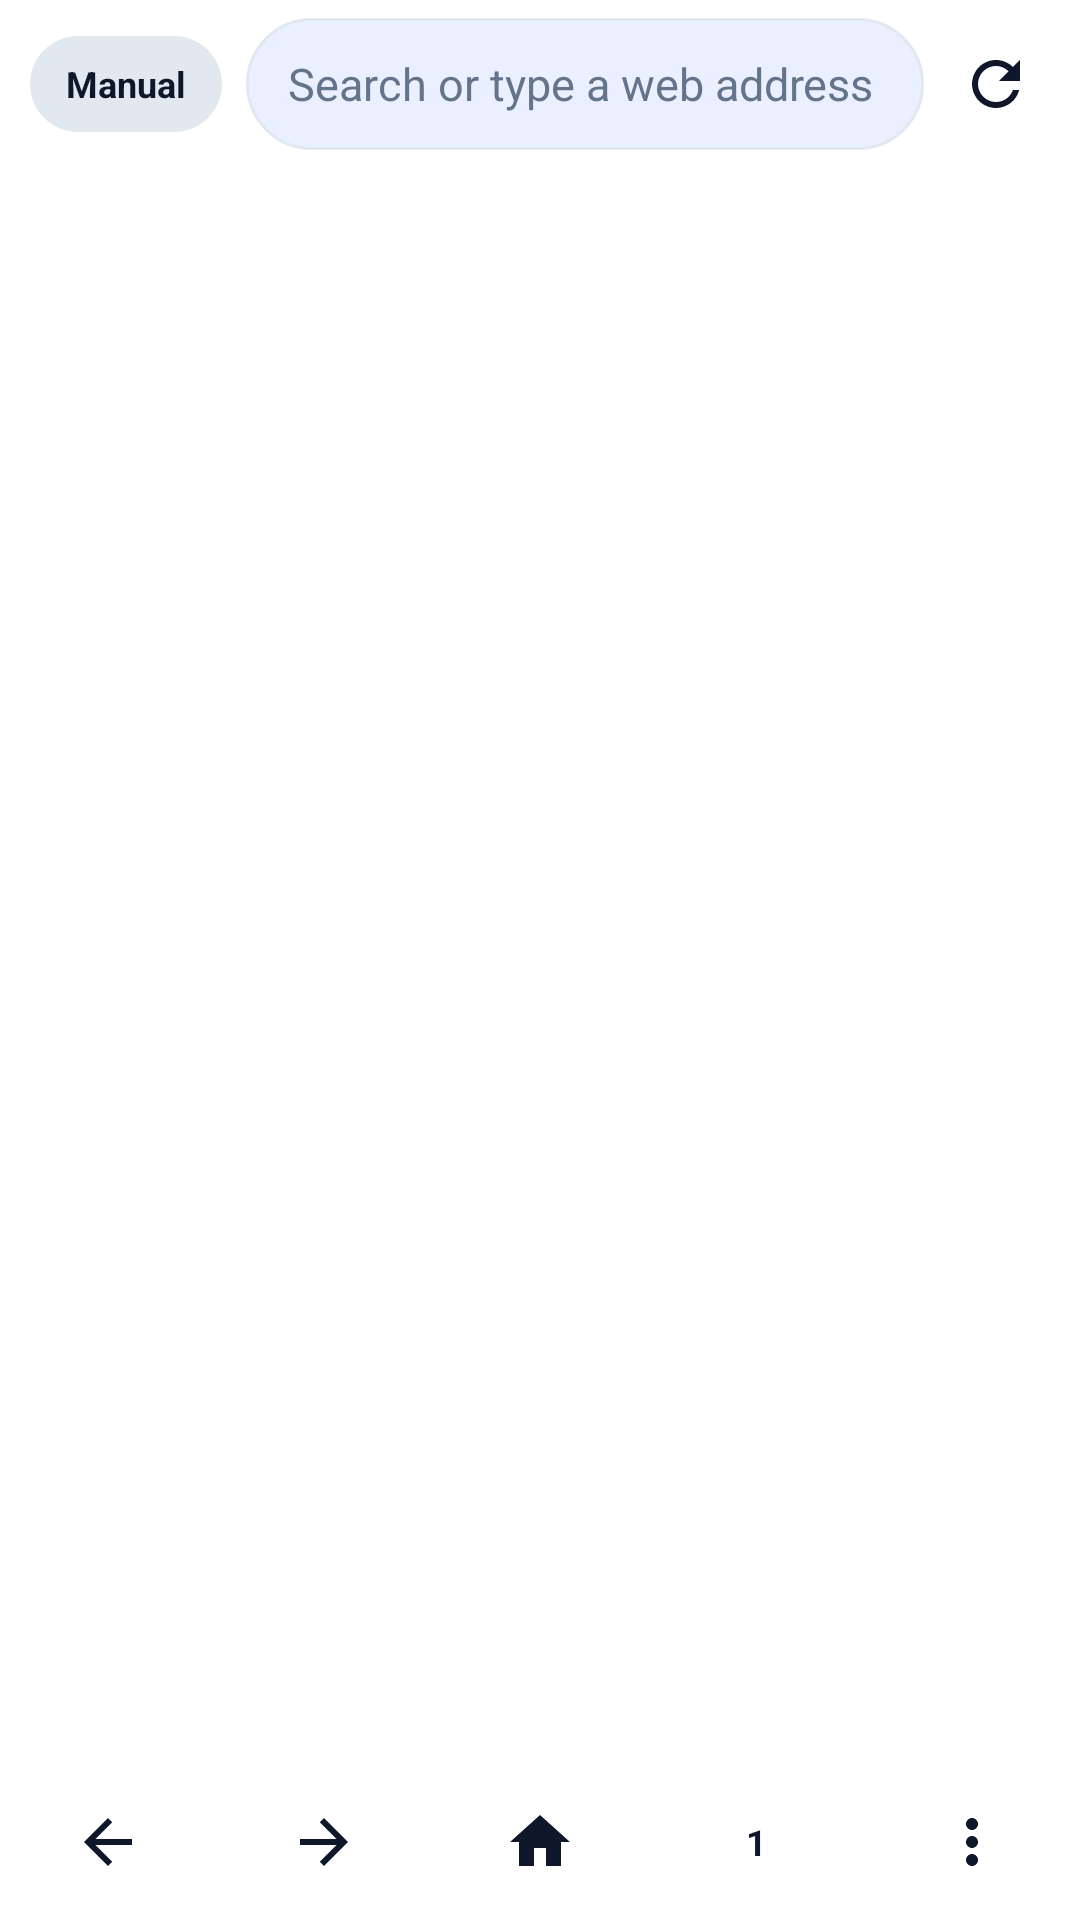

Icons on this 1080*1920 Android screen, each with its box as (x1, y1, x2, y2):
Back: (84, 1818, 132, 1866)
Forward: (300, 1818, 348, 1866)
Home: (510, 1815, 570, 1866)
More options: (966, 1818, 978, 1866)
Reload: (972, 60, 1020, 108)
